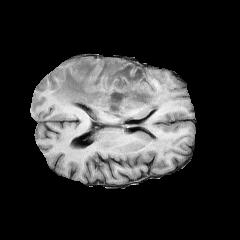glioma: (51, 59, 171, 120)
